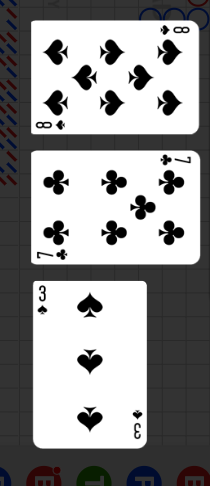3S: (130, 407, 144, 441)
7C: (35, 247, 70, 262)
8S: (157, 24, 191, 37)
